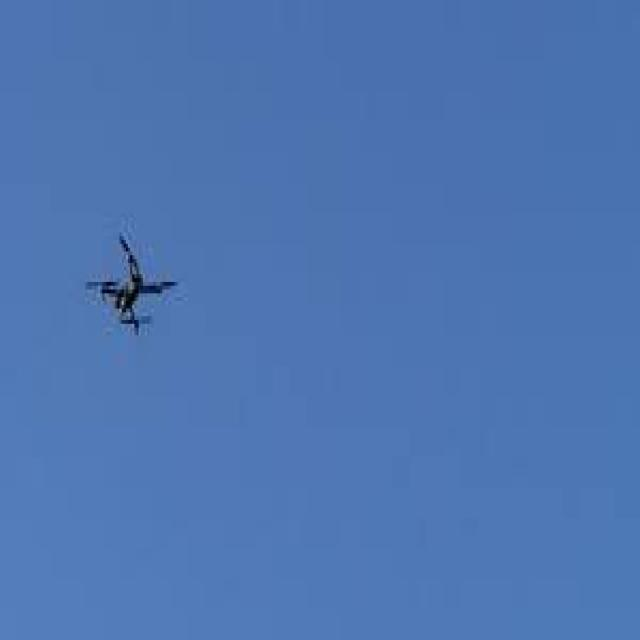drones: (83, 222, 188, 350)
